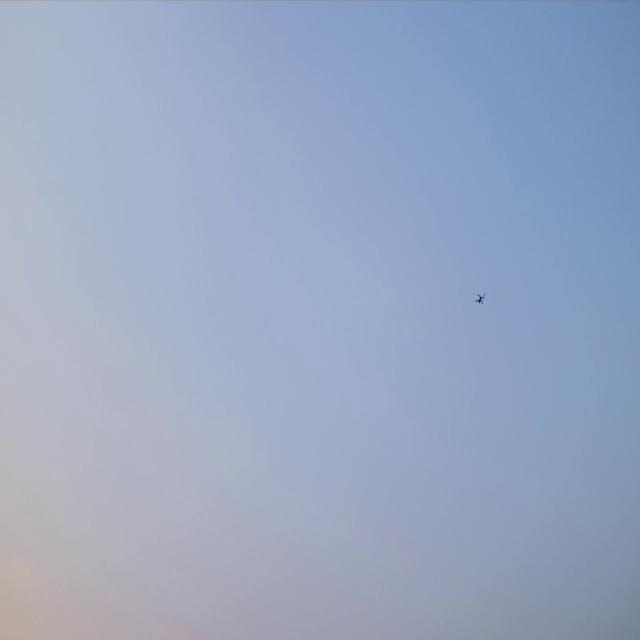UAV: (474, 290, 486, 306)
